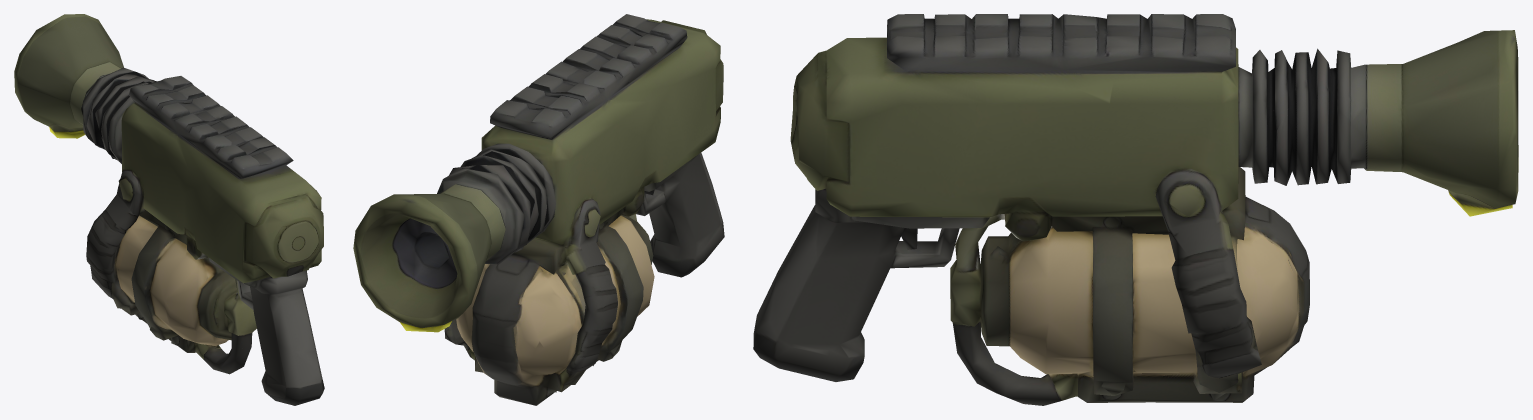
The model's file is dragon_tripo_raw.glb.
3 renders of one model, left to right at view 1: azimuth 30°, elevation 25°; view 2: azimuth 150°, elevation 25°; view 3: azimuth 270°, elevation 25°, orthographic. The views are drawn at different scales.
Parts seen in each view (by area): view 1: tripo_node_0b4c19f5-02e2-4b82-bc26-d3b939893091; view 2: tripo_node_0b4c19f5-02e2-4b82-bc26-d3b939893091; view 3: tripo_node_0b4c19f5-02e2-4b82-bc26-d3b939893091.
Boxes of the visible parts, x1,y1,x2,y2 form: tripo_node_0b4c19f5-02e2-4b82-bc26-d3b939893091: (14, 14, 324, 405); tripo_node_0b4c19f5-02e2-4b82-bc26-d3b939893091: (353, 14, 724, 405); tripo_node_0b4c19f5-02e2-4b82-bc26-d3b939893091: (753, 14, 1518, 405).
Bounding box in the file's own units: 0.3198 × 0.5381 × 1.
Materials: 1 (1 with a texture image).
